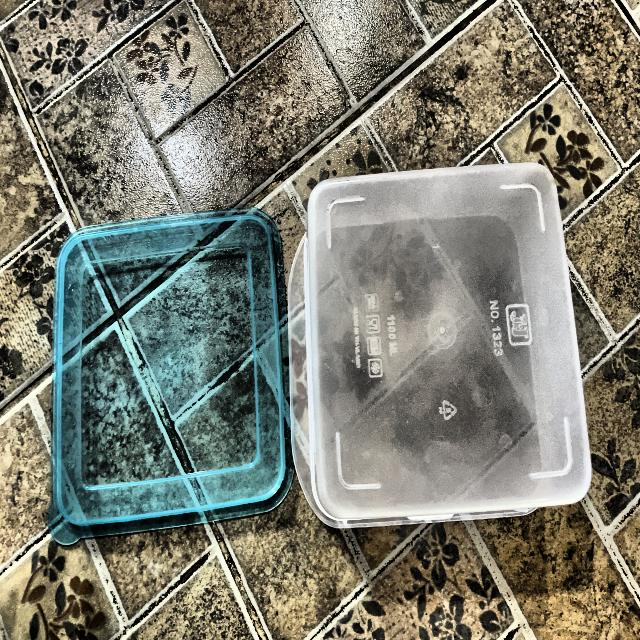plastic container: (36, 162, 574, 533)
